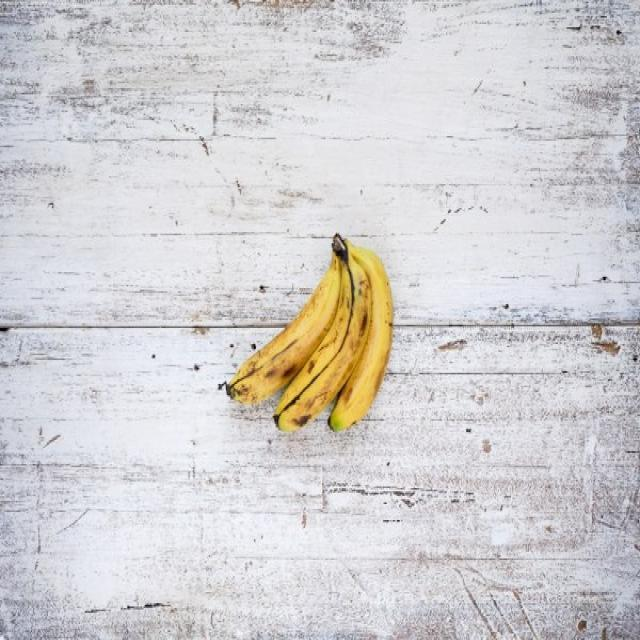Banana: (219, 228, 399, 446)
